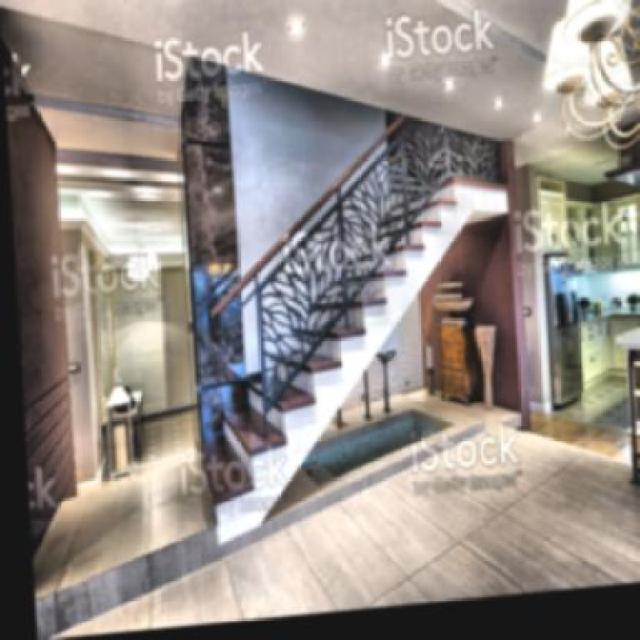stair: (194, 149, 517, 437)
